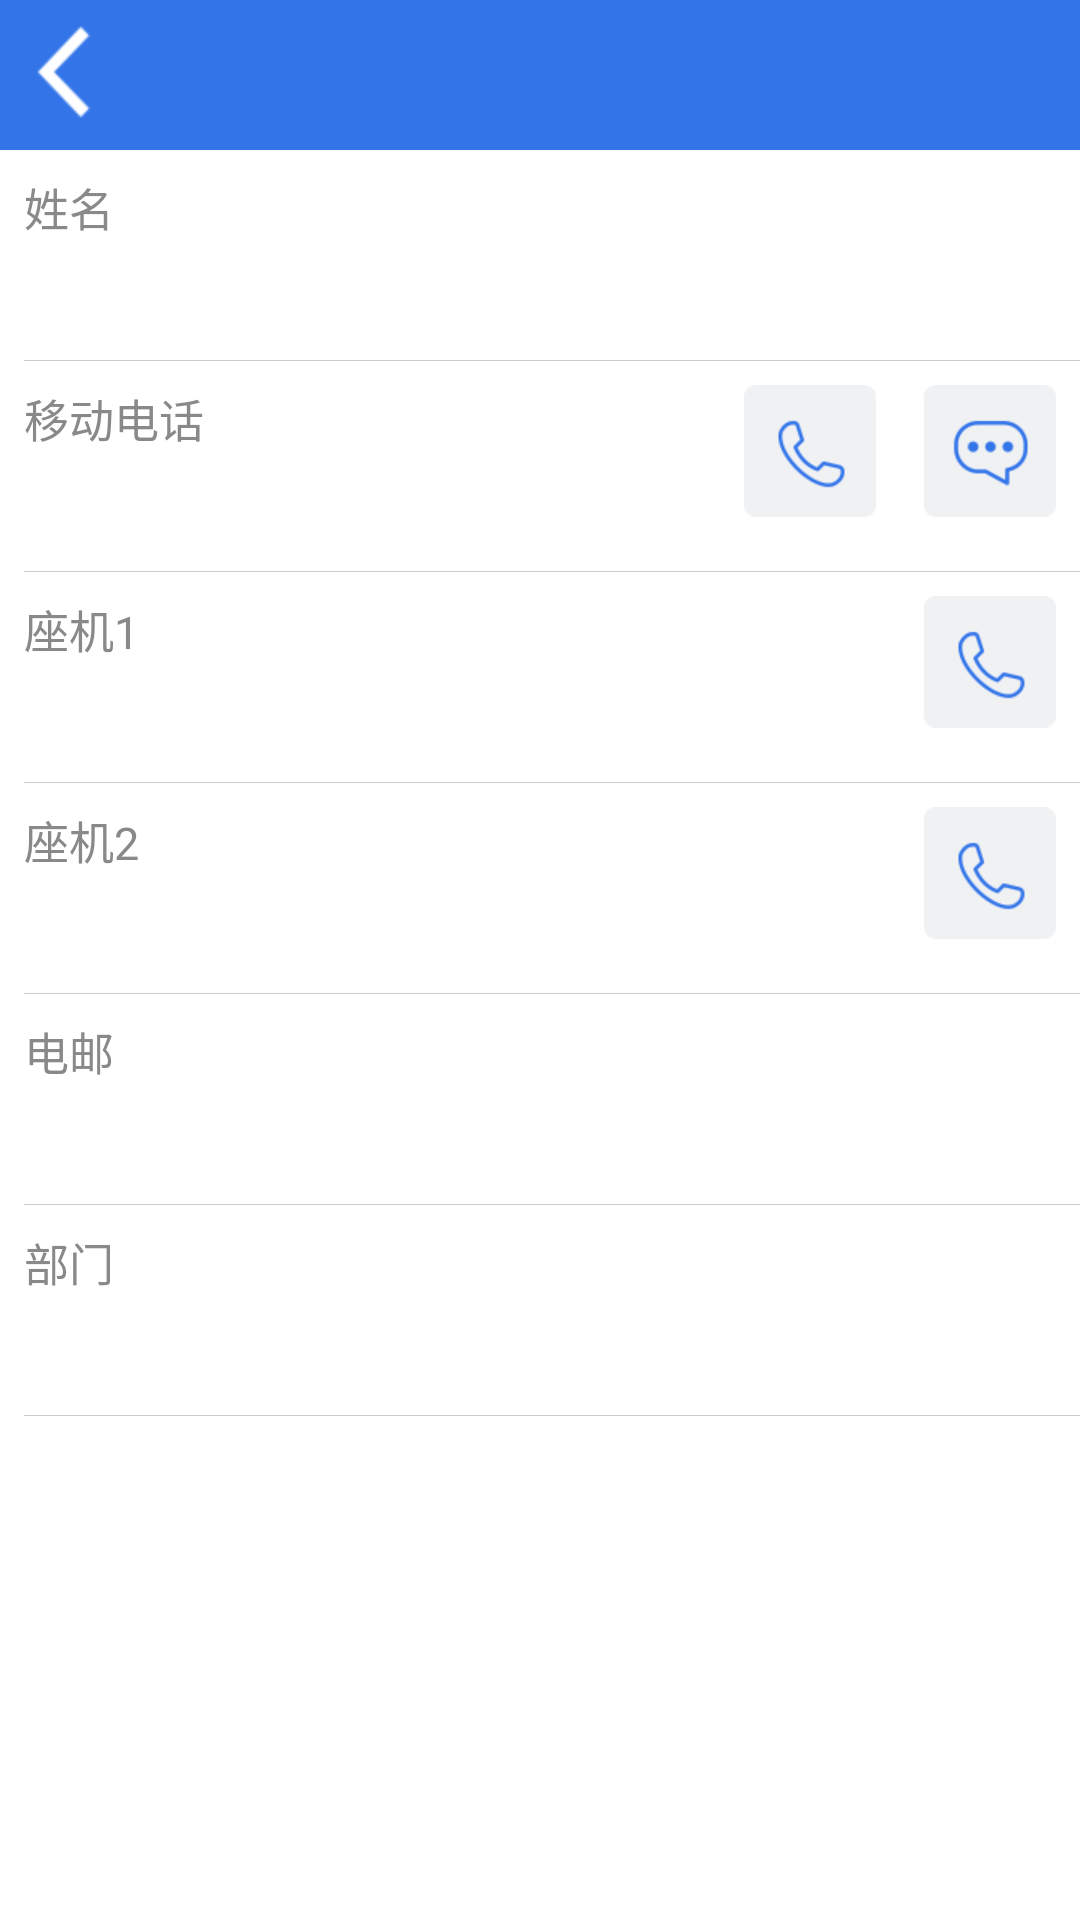

Named icons in this screenshot (1080×1920) and their centers, (x,y):
back: (63,72)
call: (810,451), (990,662), (990,873)
